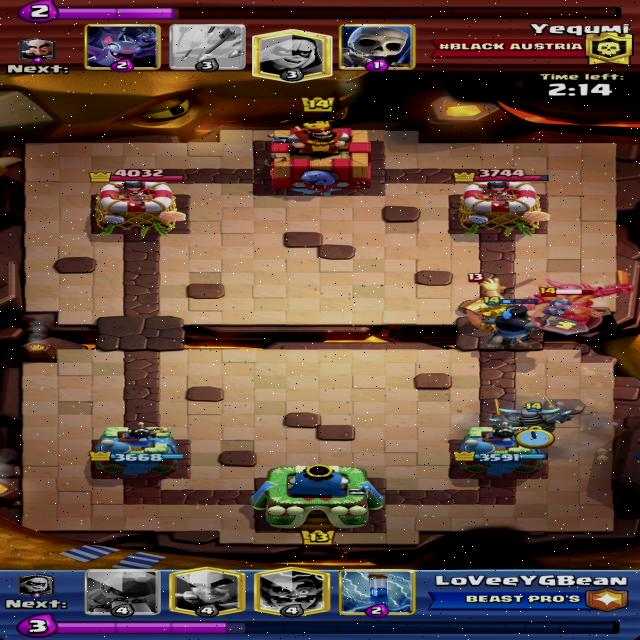Enemy-GoldenKnight: (457, 273, 515, 331)
Enemy-PEKKA: (524, 270, 635, 325)
Player-DarkPrince: (483, 296, 572, 349)
Player-PEKKA: (489, 396, 574, 437)
